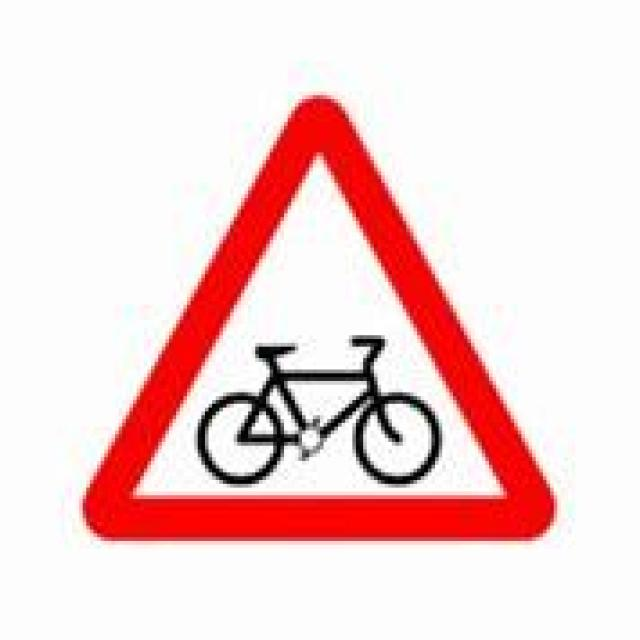cycle_crossing: (76, 88, 554, 544)
